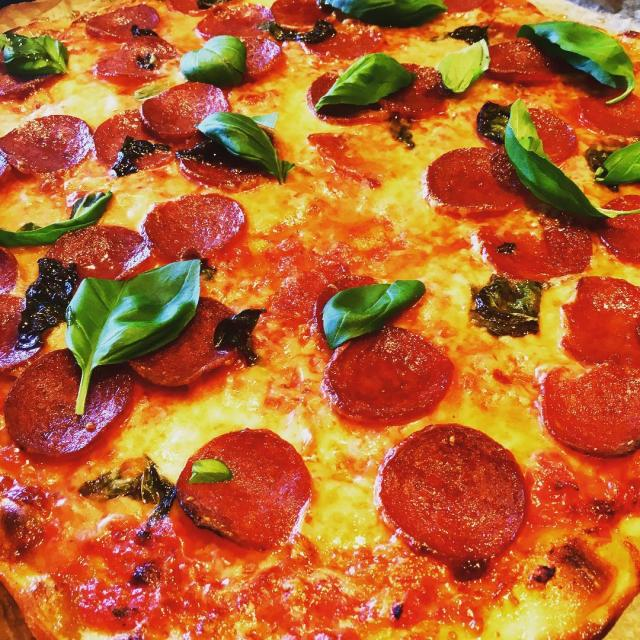basil: (63, 254, 204, 418), (506, 97, 640, 224), (516, 21, 636, 106), (321, 278, 429, 352), (193, 110, 296, 186), (0, 187, 116, 247), (313, 51, 415, 118), (474, 277, 544, 338), (314, 0, 451, 30), (0, 27, 72, 78), (434, 34, 492, 96), (211, 306, 270, 366), (178, 34, 246, 86), (591, 139, 640, 185), (186, 458, 236, 488)
pepperoni: (374, 421, 530, 567), (174, 424, 319, 552), (7, 344, 132, 457), (320, 327, 459, 426), (124, 295, 243, 391), (537, 357, 640, 456), (474, 205, 594, 277), (418, 142, 532, 217), (556, 275, 640, 373), (140, 190, 248, 266), (176, 121, 283, 189), (0, 114, 95, 178), (46, 223, 153, 278), (134, 82, 237, 138), (90, 109, 186, 166), (304, 71, 390, 126), (306, 128, 384, 188), (480, 39, 594, 80), (97, 34, 181, 89), (506, 102, 581, 162), (0, 290, 44, 374), (597, 191, 640, 271), (380, 63, 446, 115), (301, 20, 379, 63), (577, 89, 640, 135), (195, 4, 278, 38), (86, 4, 162, 40), (0, 58, 63, 99), (265, 0, 332, 30), (441, 0, 507, 21), (170, 0, 243, 17), (0, 243, 21, 294)
pizza: (0, 0, 640, 640)
